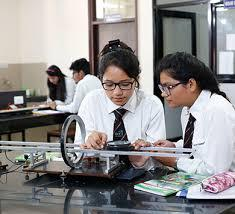Person: (158, 54, 235, 181), (79, 41, 163, 156)
